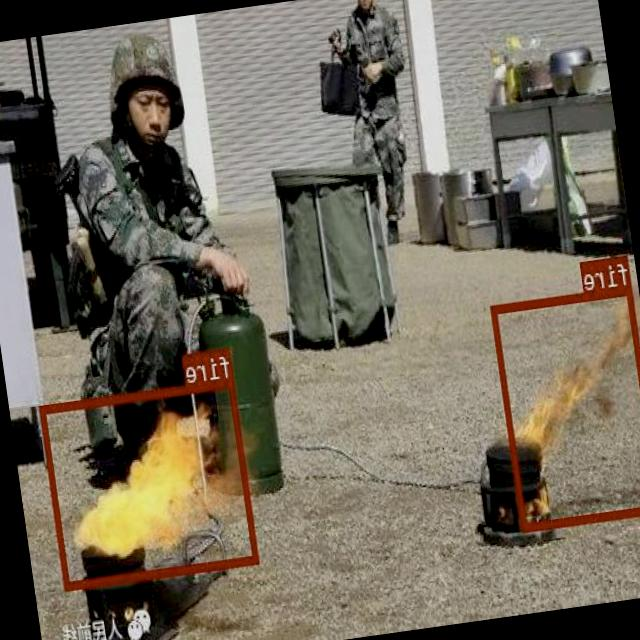fire: (41, 376, 260, 590), (491, 285, 640, 530)
